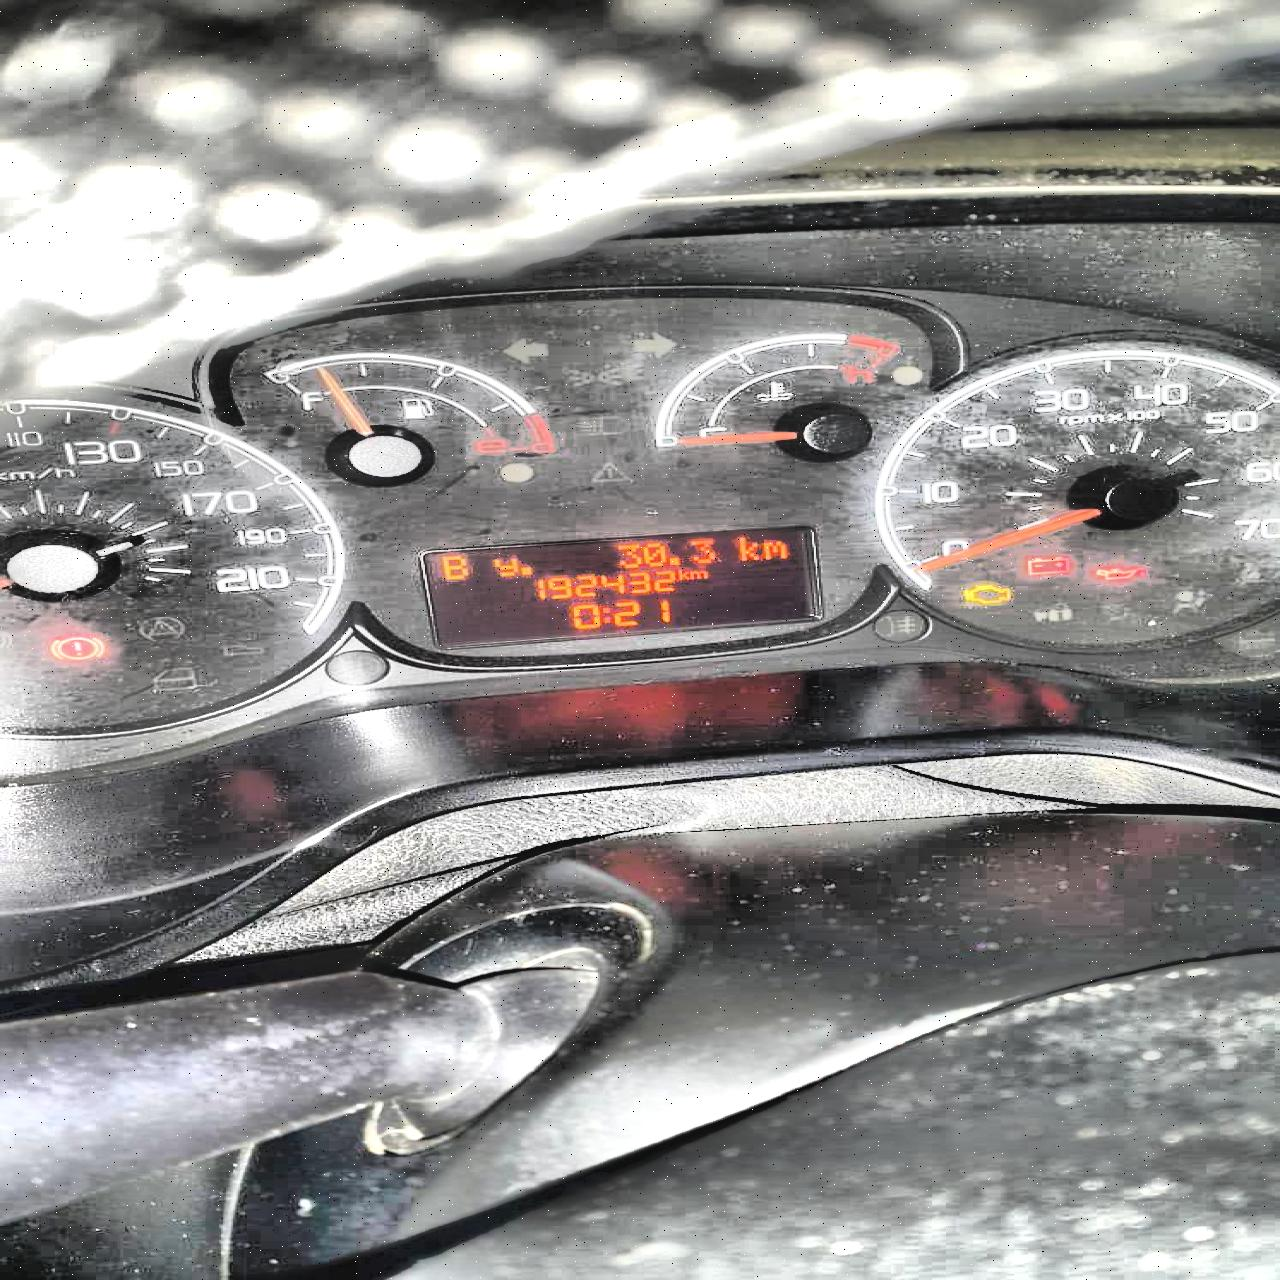-: (665, 553, 680, 566)
0: (571, 602, 599, 629), (641, 540, 668, 567)
1: (653, 599, 673, 622), (533, 578, 545, 599)
2: (614, 599, 639, 626), (576, 573, 594, 599), (654, 568, 674, 592)
3: (689, 537, 716, 565), (613, 542, 641, 566), (628, 570, 652, 593)
4: (598, 573, 624, 593)
9: (549, 576, 572, 599)
X: (441, 554, 470, 581), (735, 535, 761, 561), (489, 556, 516, 578), (763, 539, 787, 559), (599, 605, 612, 624), (689, 567, 708, 579), (517, 564, 535, 576), (675, 567, 689, 580)
odometer: (414, 524, 828, 652)
